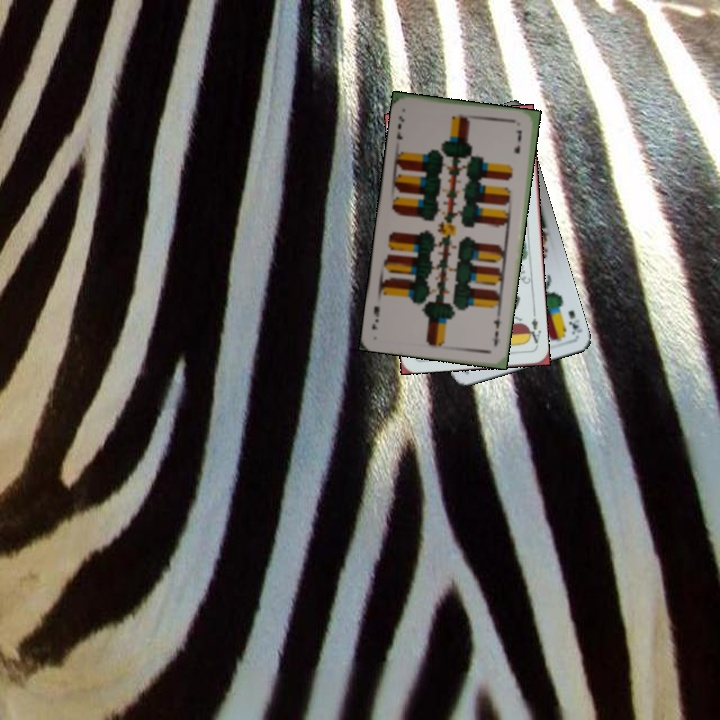E7: (487, 311, 503, 349), (393, 112, 407, 142)
EA: (523, 314, 543, 349)
EK: (564, 306, 584, 337)
